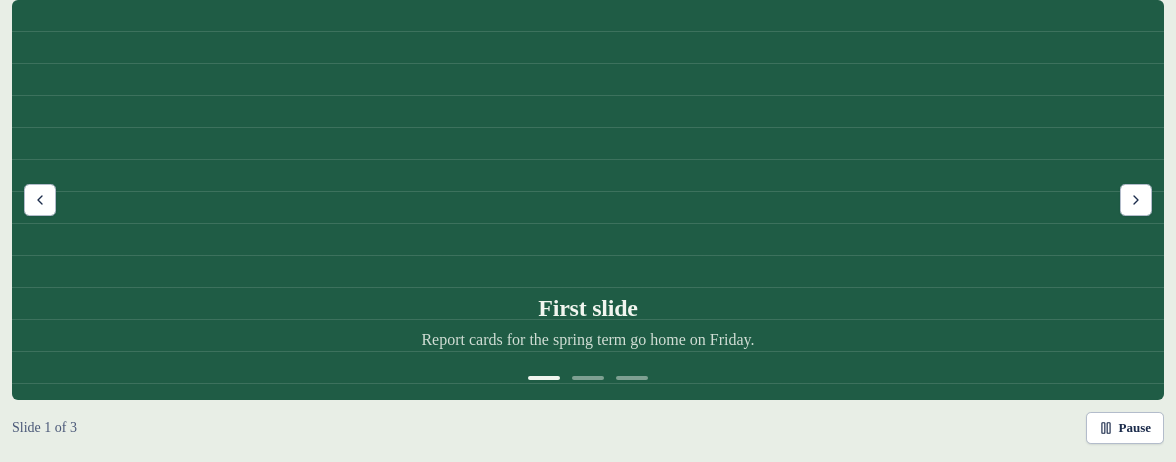
Test: DemoCarousel › goes to the slide whose indicator is pressed
Step 1. Click the button named "Go to slide 3" → (632,378), box [612,364,652,392]
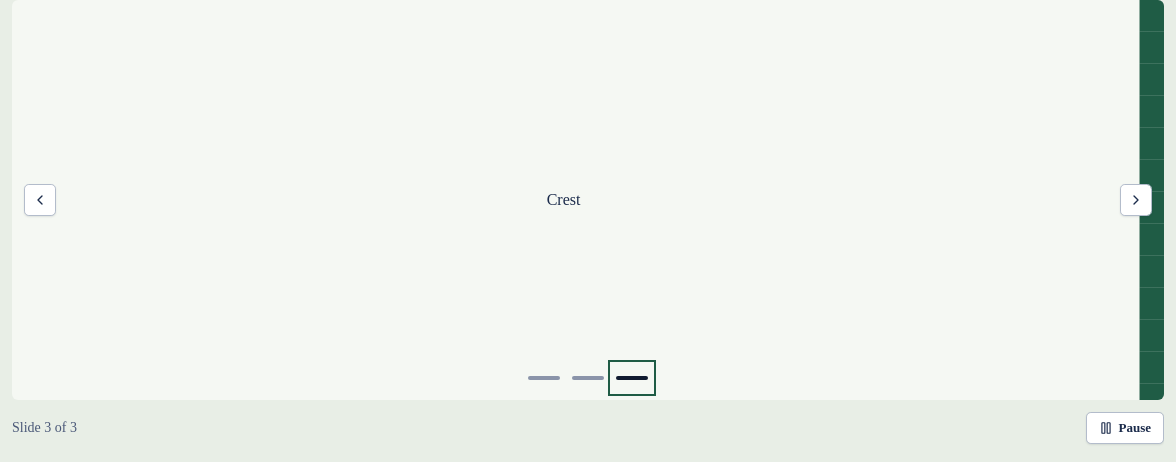
expect the text "Slide 3 of 3" is shown: met, box [12,418,77,438]
